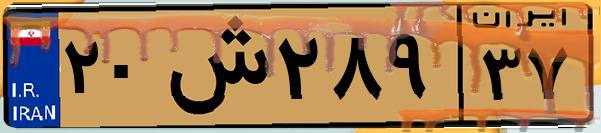0: (110, 28, 158, 98)
2: (270, 28, 330, 110), (57, 26, 110, 100)
3: (475, 38, 525, 113)
7: (525, 38, 570, 115)
8: (330, 28, 385, 110)
9: (385, 28, 445, 110)
ش: (158, 12, 270, 120)
